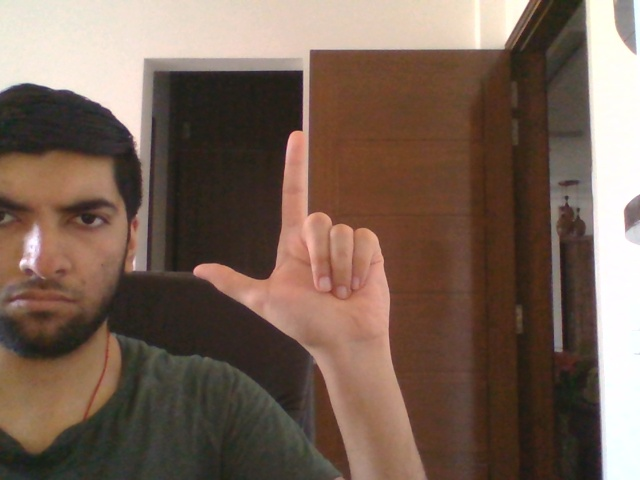LetterL: (192, 130, 391, 351)
